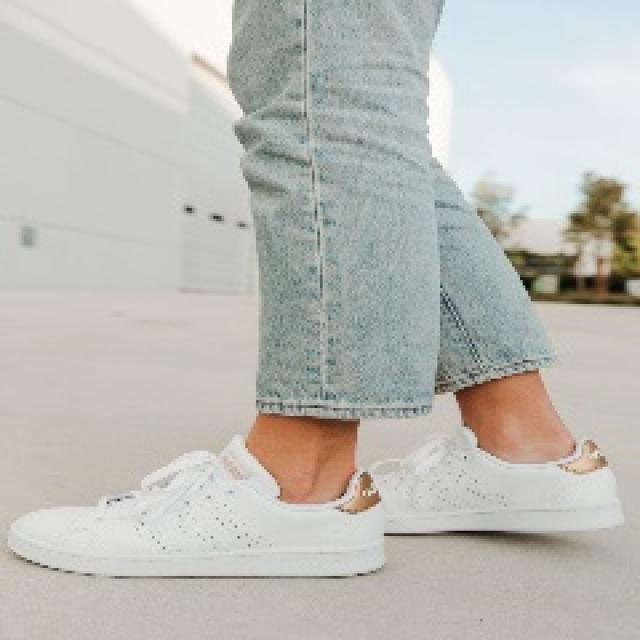shoes: (8, 431, 402, 587), (367, 426, 636, 540)
